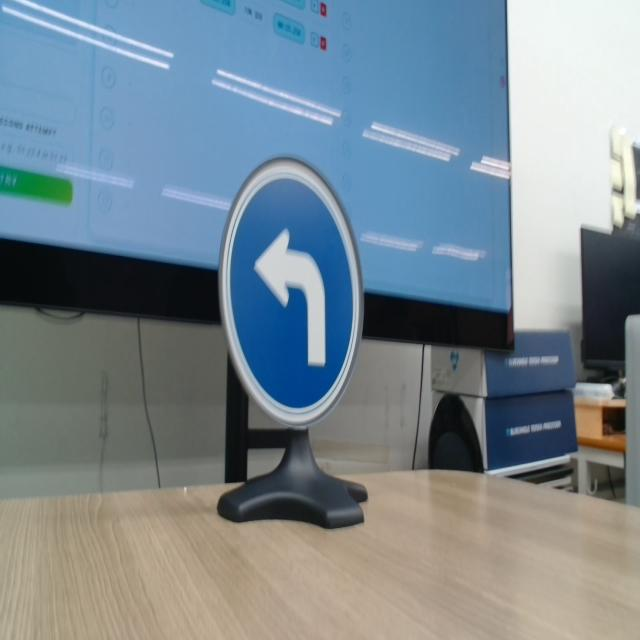left_direction: (217, 129, 399, 445)
